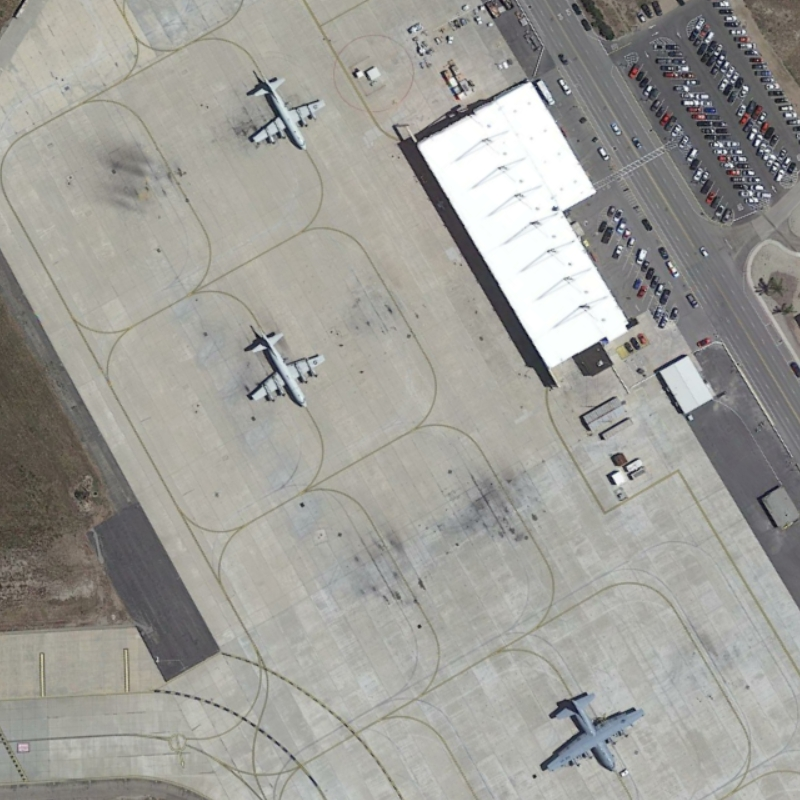A2: (538, 687, 648, 783)
A9: (237, 315, 327, 415), (243, 62, 325, 155)
